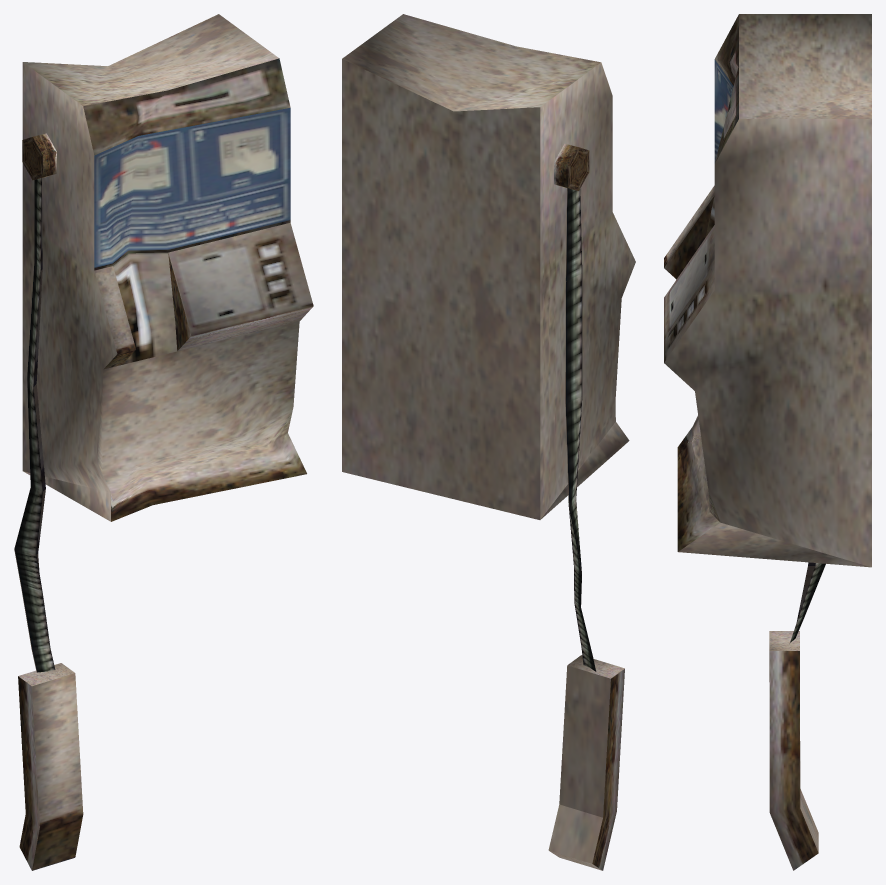
Rendered from M_Home_Garden_payphone1.fbx.
3 views of the same model, side by side, from view 1: azimuth 30°, elevation 25°; view 2: azimuth 150°, elevation 25°; view 3: azimuth 270°, elevation 25° (orthographic). The views are drawn at different scales.
Visible parts, largest first — view 1: M_Home_Garden_payphone1; view 2: M_Home_Garden_payphone1; view 3: M_Home_Garden_payphone1.
Part boxes in pixels (bbox=[...]): M_Home_Garden_payphone1: bbox=[14, 14, 313, 870]; M_Home_Garden_payphone1: bbox=[342, 14, 635, 870]; M_Home_Garden_payphone1: bbox=[664, 14, 871, 870].
Bounding box in the file's own units: 40.44 × 128 × 28.45.
